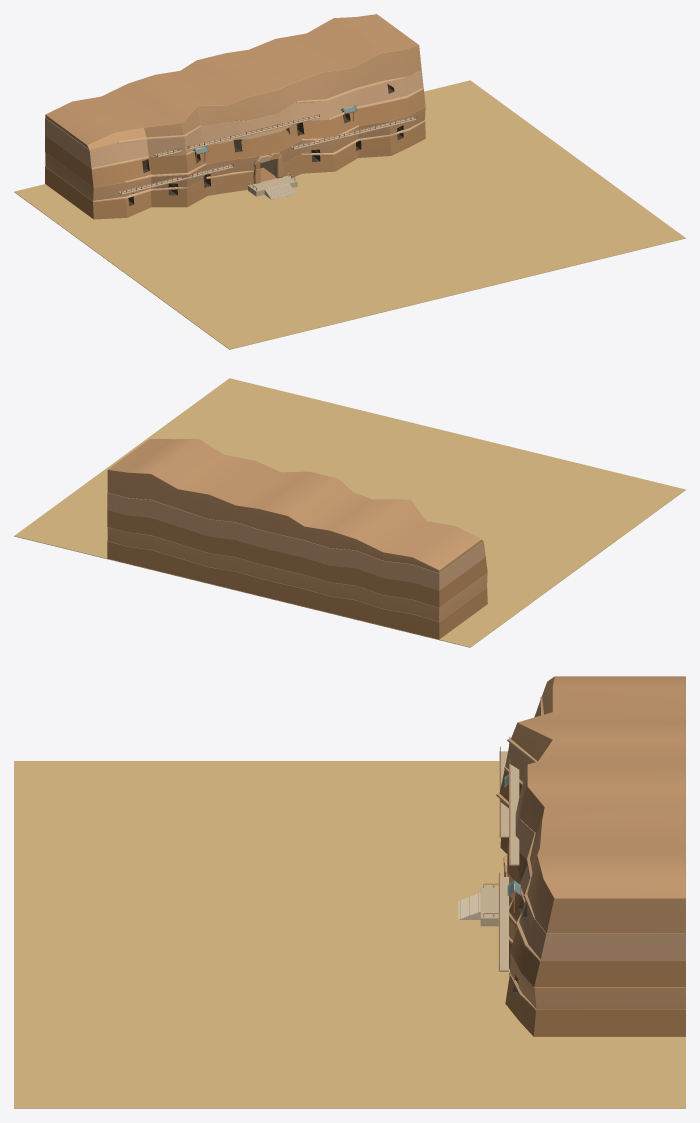
File: exterior.glb
The picture shows the model from 3 angles, top to bottom: view 1: azimuth 30°, elevation 25°; view 2: azimuth 150°, elevation 25°; view 3: azimuth 270°, elevation 25°; orthographic projection. The views are drawn at different scales.
Visible parts, largest first — view 1: region-ground--ground-sand, cliff--sandstone-light, cliff--sandstone, cliff--sandstone-pale, cliff--sandstone-pale.001, cliff-walkways--stone, cliff-walkways--wood; view 2: region-ground--ground-sand, cliff--sandstone-light, cliff--sandstone, cliff--sandstone-pale; view 3: region-ground--ground-sand, cliff--sandstone-light, cliff--sandstone, cliff--sandstone-pale, cliff-walkways--stone, cliff--sandstone-pale.001, entry-terrace--stone.
Part boxes in pixels (x1=…): region-ground--ground-sand: x1=14, y1=80, x2=685, y2=349; cliff--sandstone-light: x1=45, y1=14, x2=425, y2=200; cliff--sandstone: x1=45, y1=89, x2=425, y2=219; cliff--sandstone-pale: x1=45, y1=70, x2=423, y2=168; cliff--sandstone-pale.001: x1=91, y1=77, x2=425, y2=202; cliff-walkways--stone: x1=118, y1=115, x2=416, y2=194; cliff-walkways--wood: x1=121, y1=114, x2=416, y2=193; region-ground--ground-sand: x1=14, y1=378, x2=685, y2=647; cliff--sandstone-light: x1=107, y1=439, x2=487, y2=621; cliff--sandstone: x1=107, y1=510, x2=487, y2=639; cliff--sandstone-pale: x1=107, y1=492, x2=485, y2=590; region-ground--ground-sand: x1=14, y1=761, x2=685, y2=1108; cliff--sandstone-light: x1=500, y1=676, x2=685, y2=1009; cliff--sandstone: x1=499, y1=769, x2=685, y2=1036; cliff--sandstone-pale: x1=505, y1=682, x2=685, y2=960; cliff-walkways--stone: x1=498, y1=742, x2=519, y2=971; cliff--sandstone-pale.001: x1=496, y1=696, x2=543, y2=1011; entry-terrace--stone: x1=480, y1=887, x2=498, y2=926.
Size of the model in its own units: 220 by 44.25 by 180.
